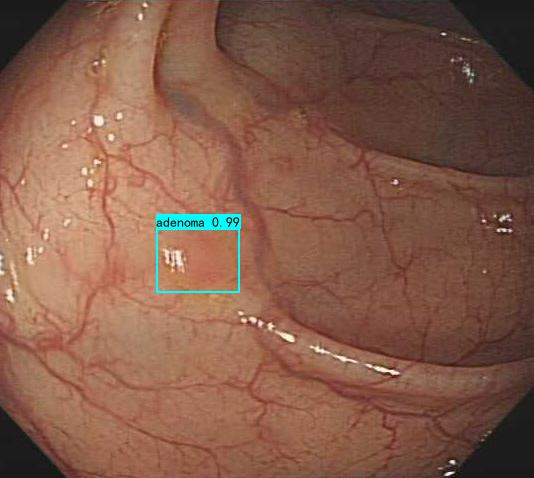adenoma: (157, 229, 241, 295)
